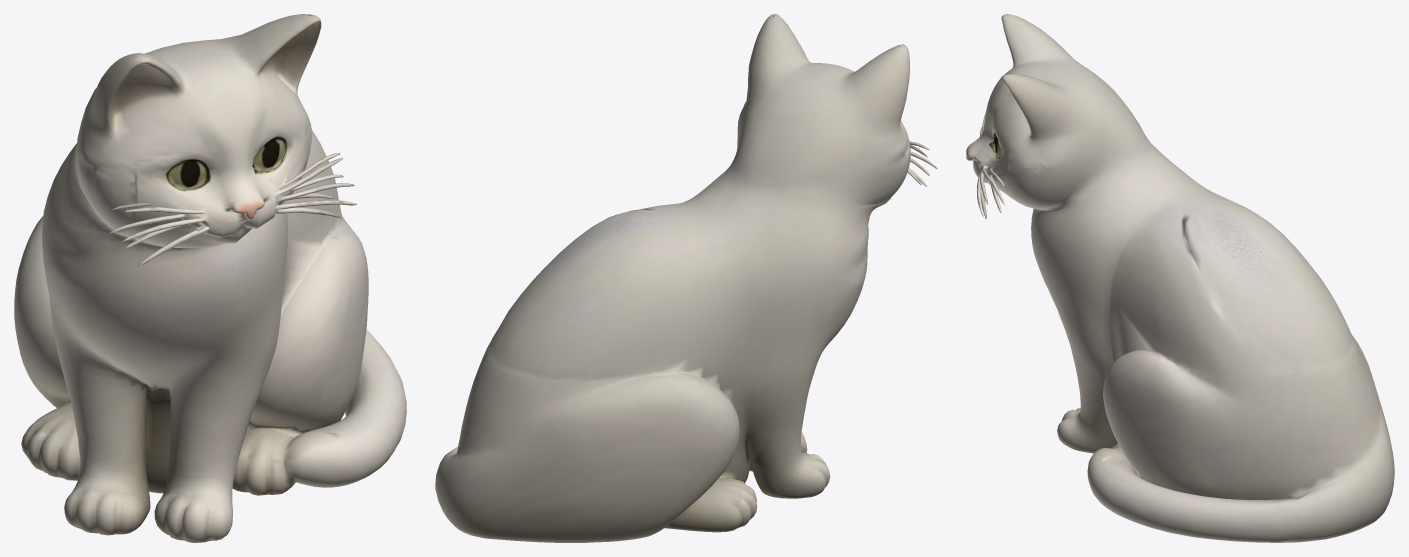
File: Decorative__cute_cat_sculpture_adfc12d6_v4.cluster.glb
3 views of the same model, side by side, from view 1: azimuth 30°, elevation 25°; view 2: azimuth 150°, elevation 25°; view 3: azimuth 270°, elevation 25° (orthographic). The views are drawn at different scales.
Parts seen in each view (by area): view 1: texture_pbr_20250901; view 2: texture_pbr_20250901; view 3: texture_pbr_20250901.
Part boxes in pixels (bbox=[...]): texture_pbr_20250901: bbox=[14, 14, 406, 542]; texture_pbr_20250901: bbox=[435, 14, 937, 542]; texture_pbr_20250901: bbox=[966, 14, 1394, 542].
Size of the model in its own units: 1.62 by 1.9 by 1.9.
1 material, 1 textured.
